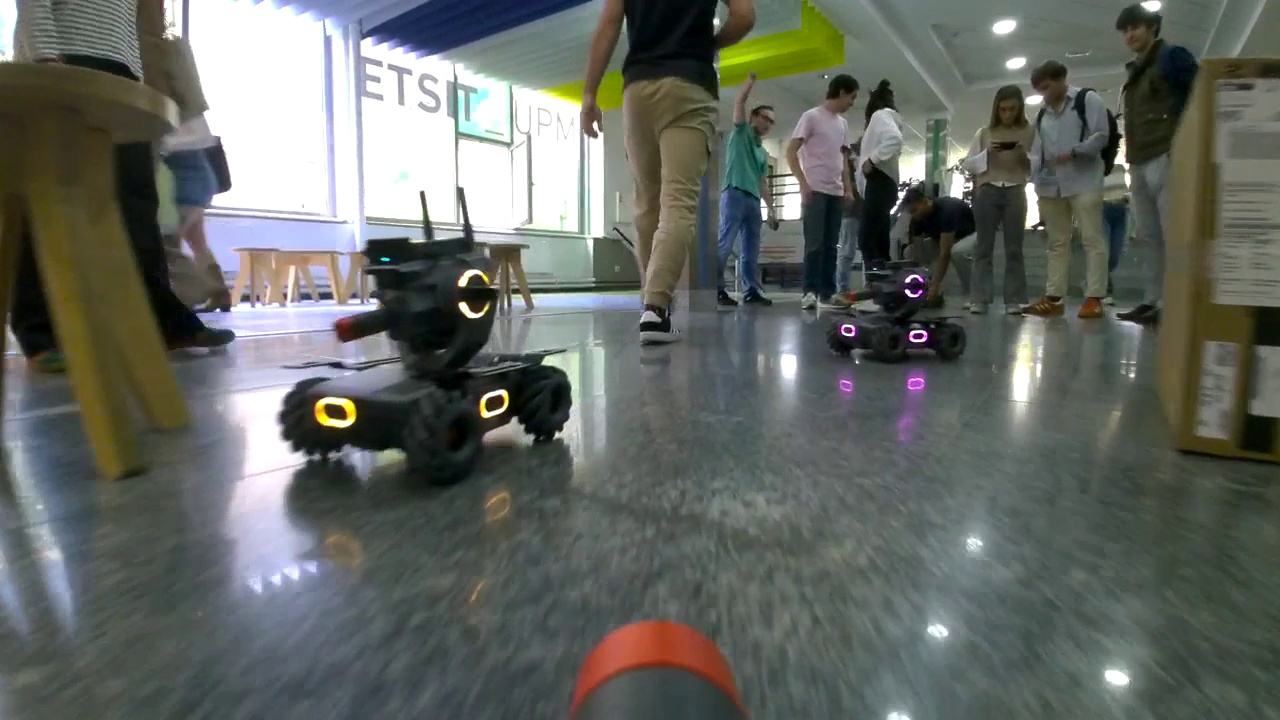robot: (277, 237, 569, 493), (829, 262, 969, 365)
